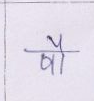ai_matra: (47, 35, 67, 51)
